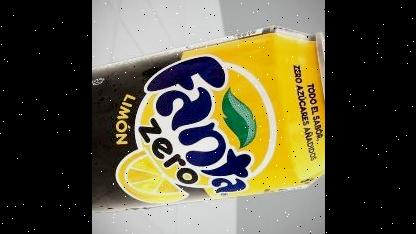Can: (92, 26, 324, 214)
